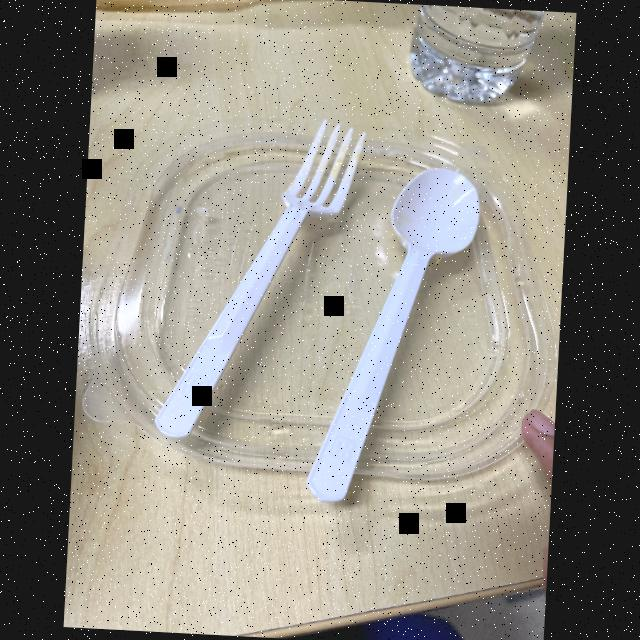plastic_spoon: (262, 153, 513, 514), (140, 118, 388, 450)
